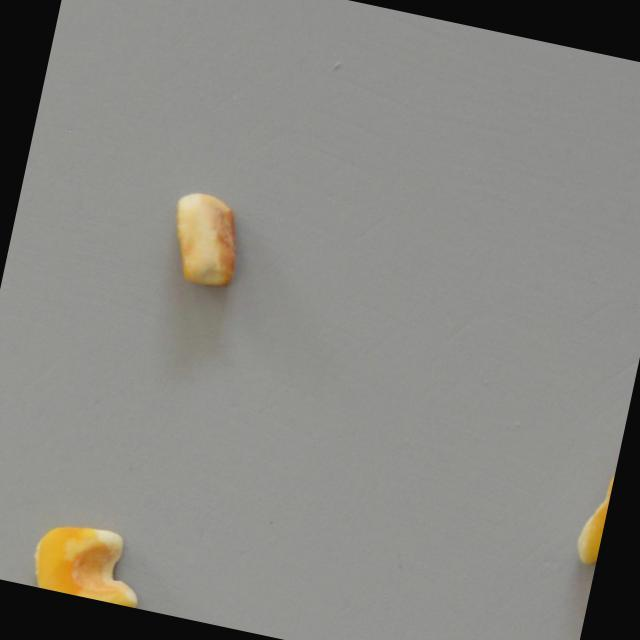dañado: (19, 508, 157, 609), (552, 404, 628, 582), (149, 183, 255, 296)
